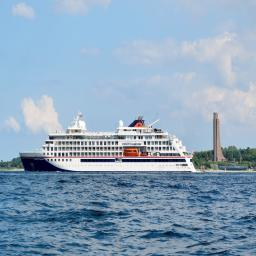cruises: (18, 110, 199, 177)
